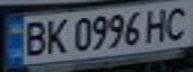0: (69, 14, 93, 53)
6: (124, 8, 148, 47)
9: (90, 12, 112, 51), (106, 11, 127, 50)
B: (18, 18, 51, 57)
C: (160, 2, 193, 42)
H: (142, 5, 175, 44)
K: (39, 16, 69, 55)
